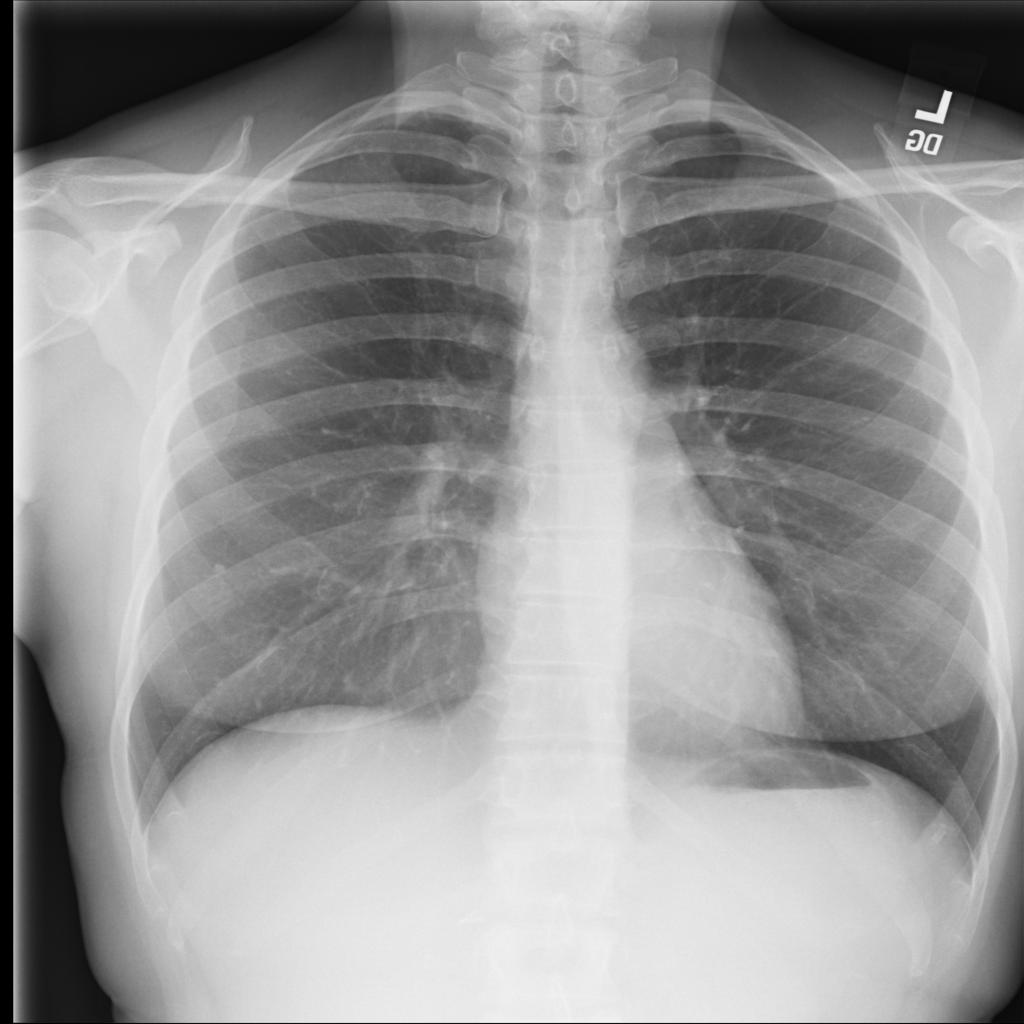nodule: (193, 544, 246, 590)
